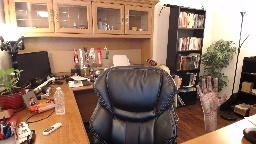Mano_aperta: (194, 73, 228, 113)
